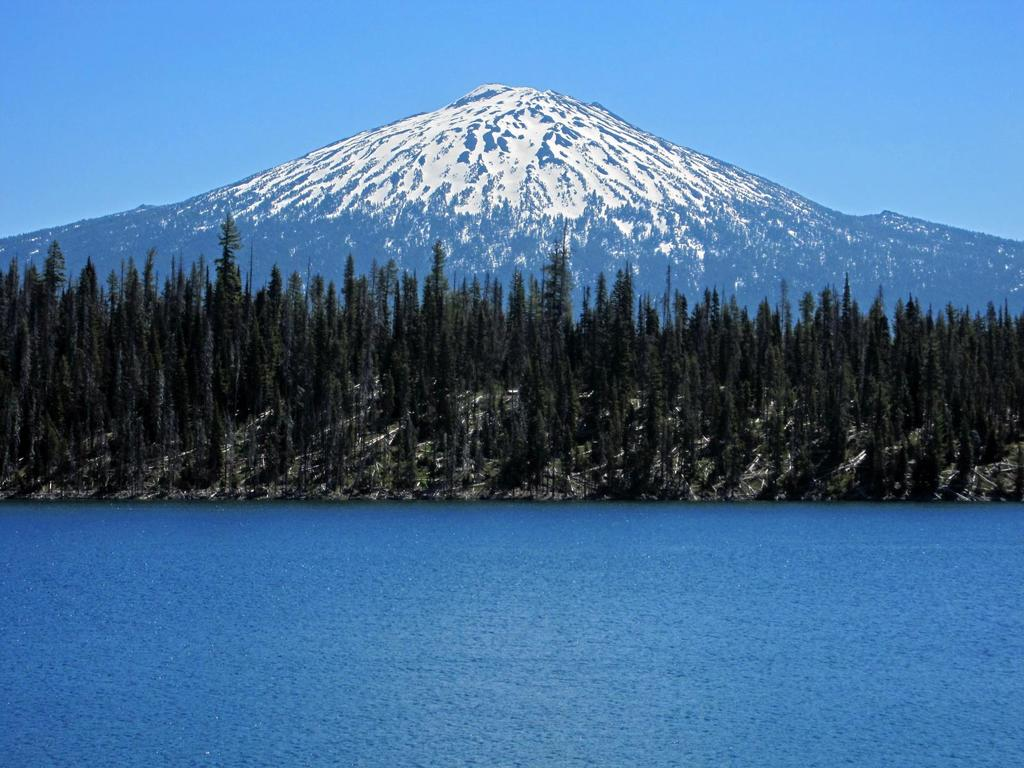Tree: (32, 208, 963, 476), (958, 302, 1023, 471), (0, 255, 48, 476)
